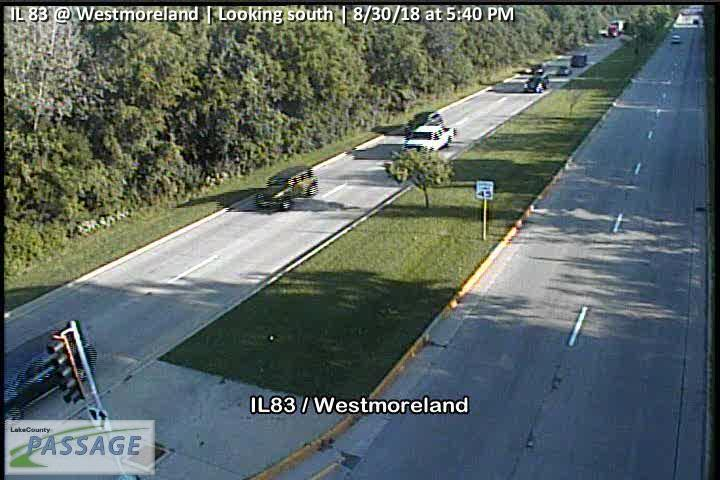SUV: (255, 164, 318, 210), (404, 110, 444, 136), (523, 73, 549, 93), (671, 35, 680, 43)
Sedan: (527, 63, 545, 74), (556, 67, 571, 75)
Truck: (400, 122, 457, 155), (572, 52, 587, 67)
